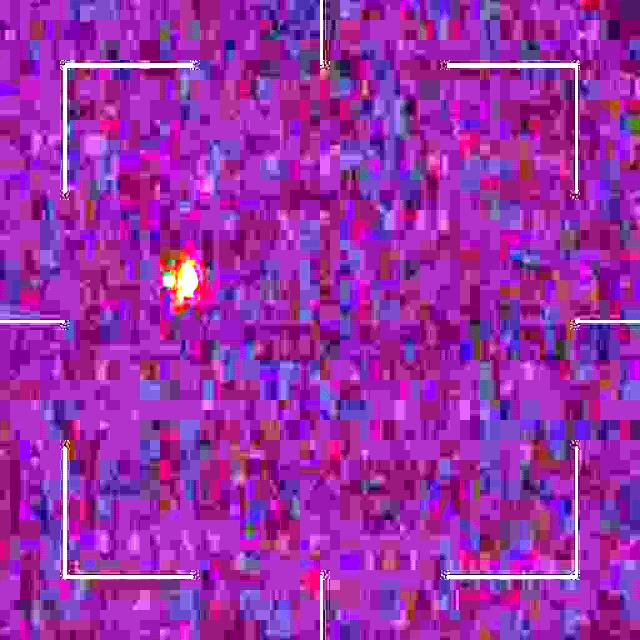bird: (162, 260, 200, 310)
